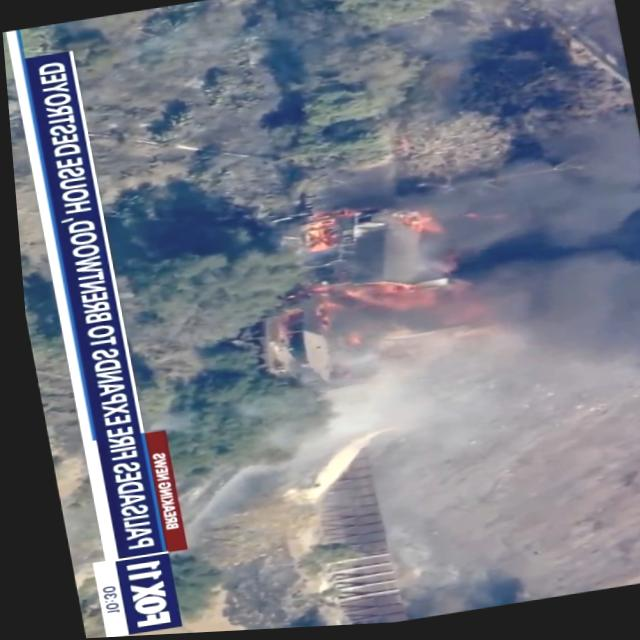no_helmet: (384, 142, 640, 386)
